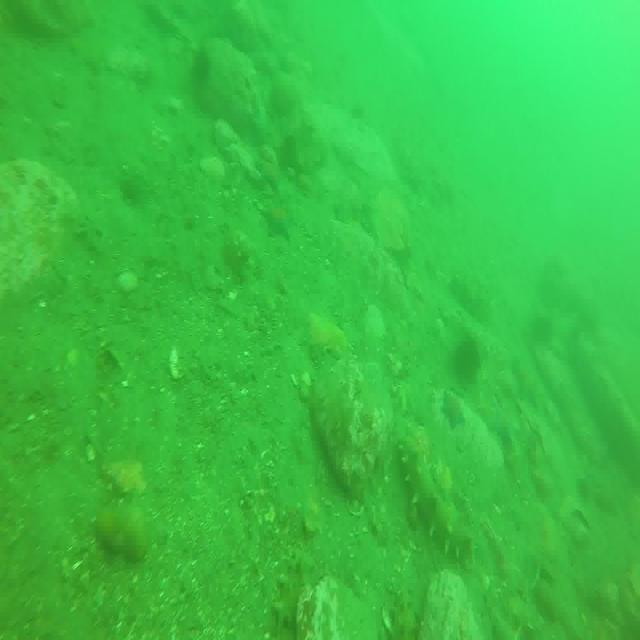holothurian: (400, 438, 476, 561)
starfish: (264, 200, 296, 238), (489, 404, 515, 446), (439, 386, 462, 431)
